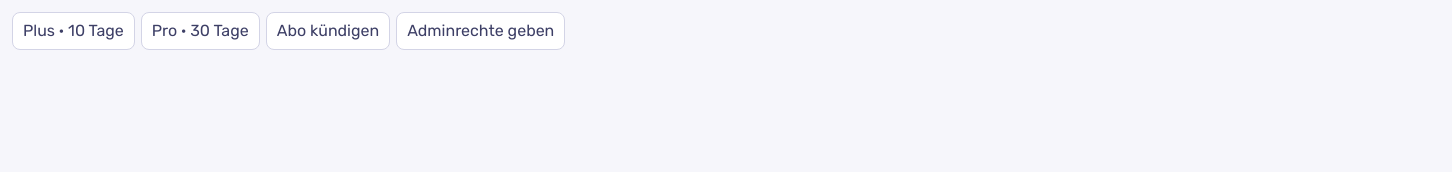
Test: admin confirmation — behavioral (render + interaction) › first click sends NO request and opens a confirmation naming target + action
Click the button "Pro · 30 Tage". click: (200, 31)
box: [141,12,260,50]
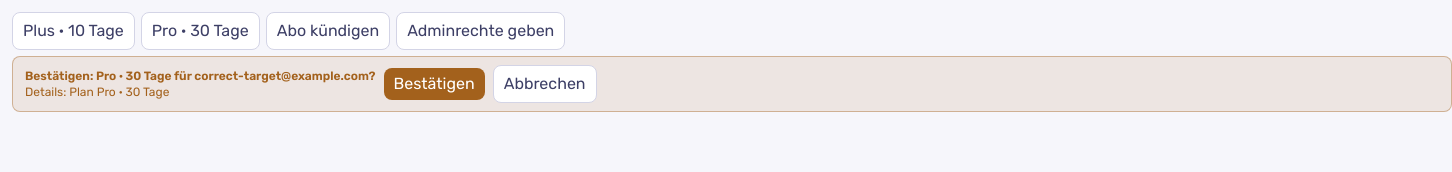
Expected: the text "correct-target@example.com" shows "Pro · 30 Tage", [25,69,376,83]
Expected: the button "Bestätigen" is shown, [384,68,485,100]
Expected: the button "Abbrechen" is shown, [493,65,597,103]
